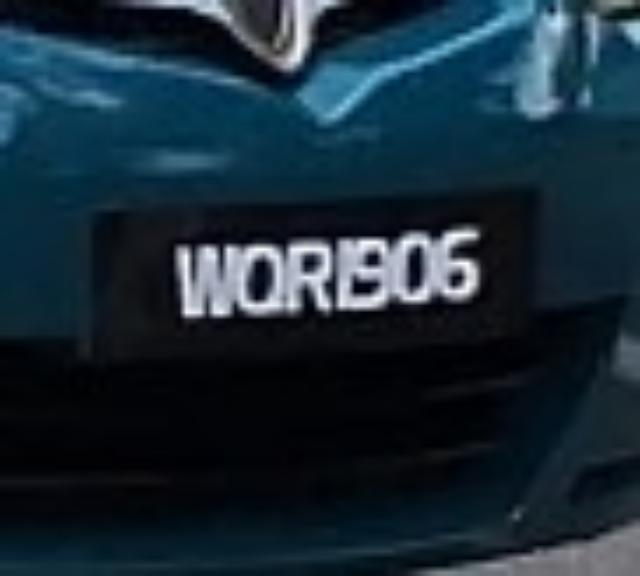License_Plate: (51, 165, 566, 392)
